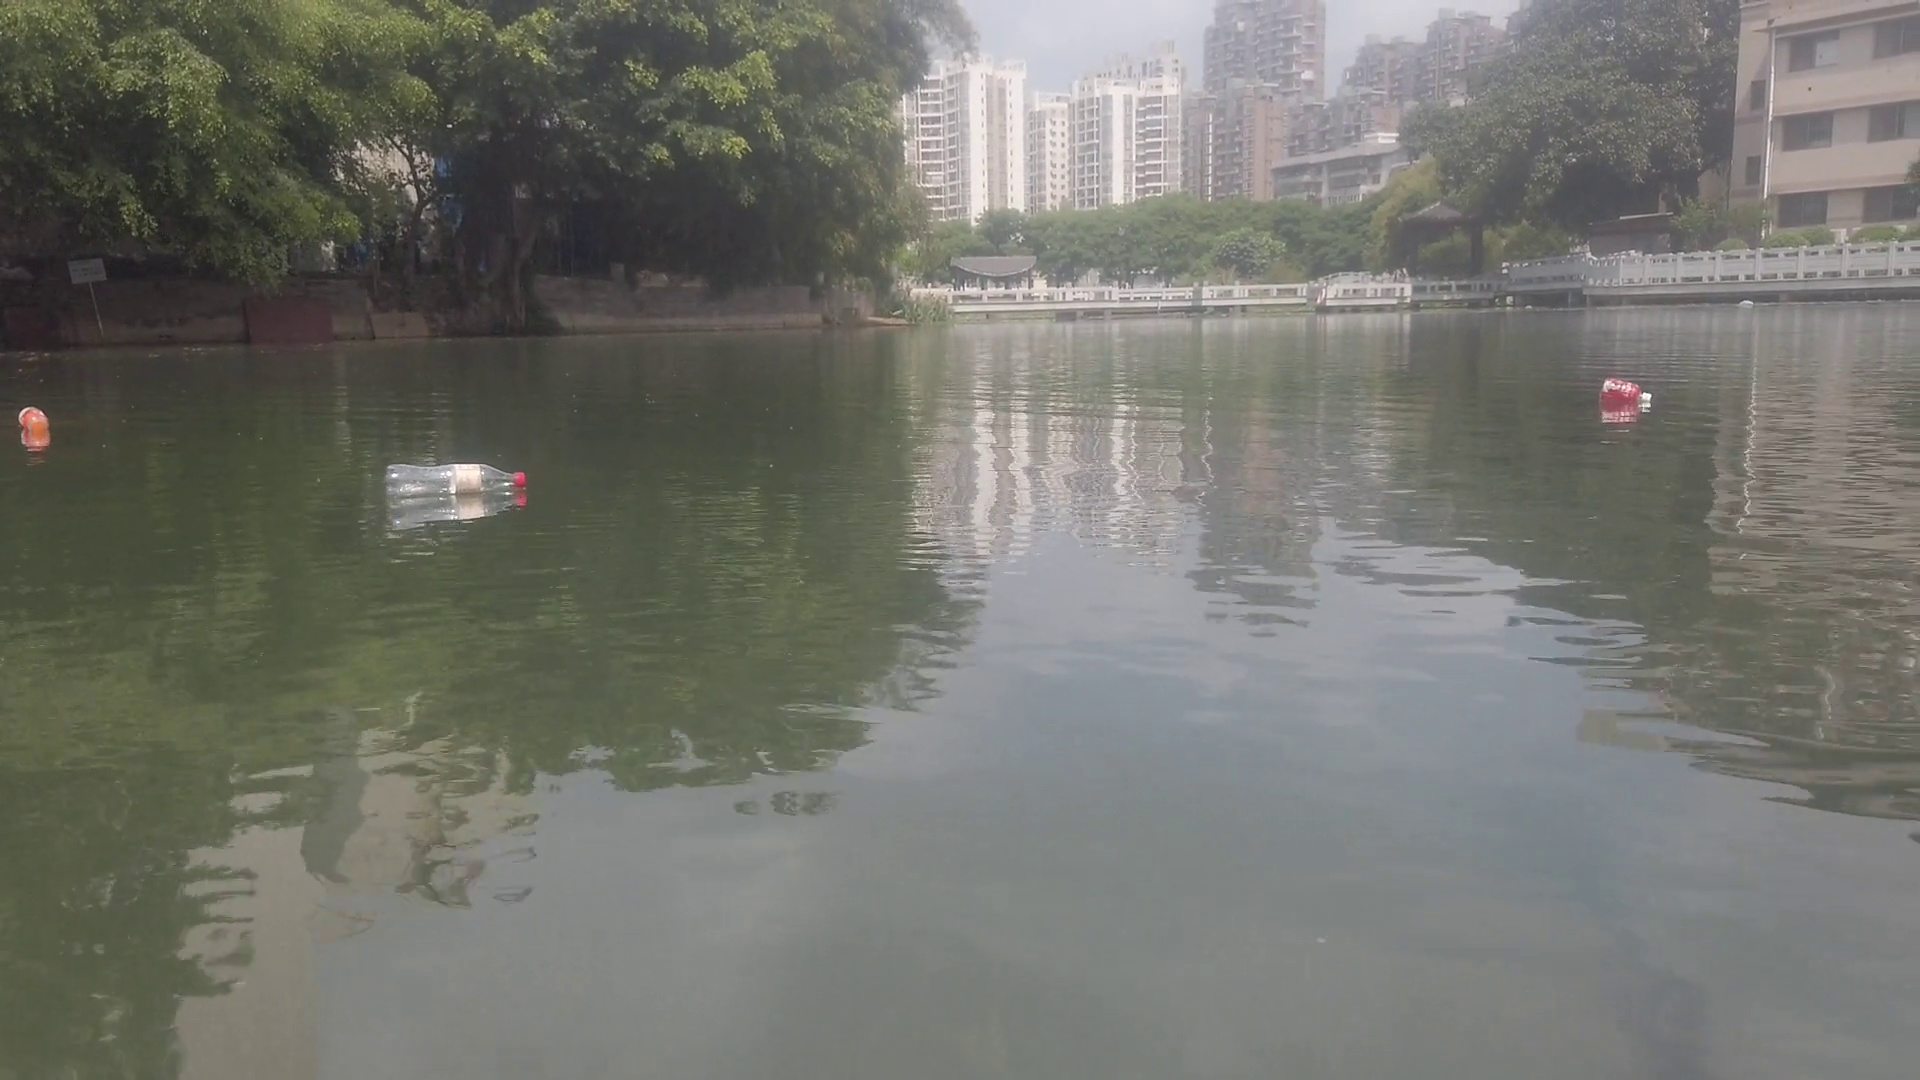bottle: (382, 464, 526, 489), (1600, 375, 1654, 404), (15, 407, 49, 435)
plastic: (1735, 298, 1755, 306)
